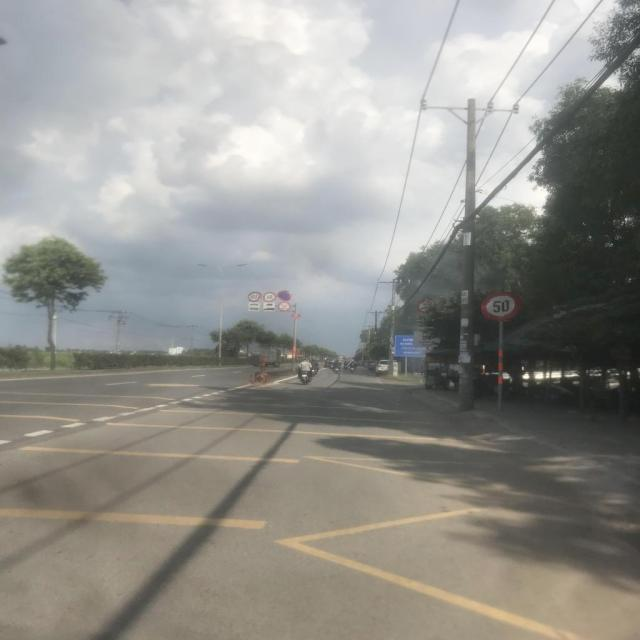107-cam-oto-khach-va-oto-tai: (418, 298, 436, 314)
127-toc-do-toi-da-50: (480, 290, 520, 320)
